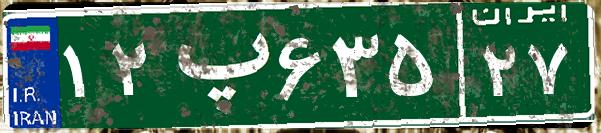1: (57, 26, 110, 107)
2: (475, 38, 525, 113), (110, 28, 158, 105)
3: (330, 28, 385, 110)
5: (385, 28, 445, 110)
6: (273, 28, 330, 110)
7: (525, 38, 570, 115)
پ: (158, 15, 273, 115)
